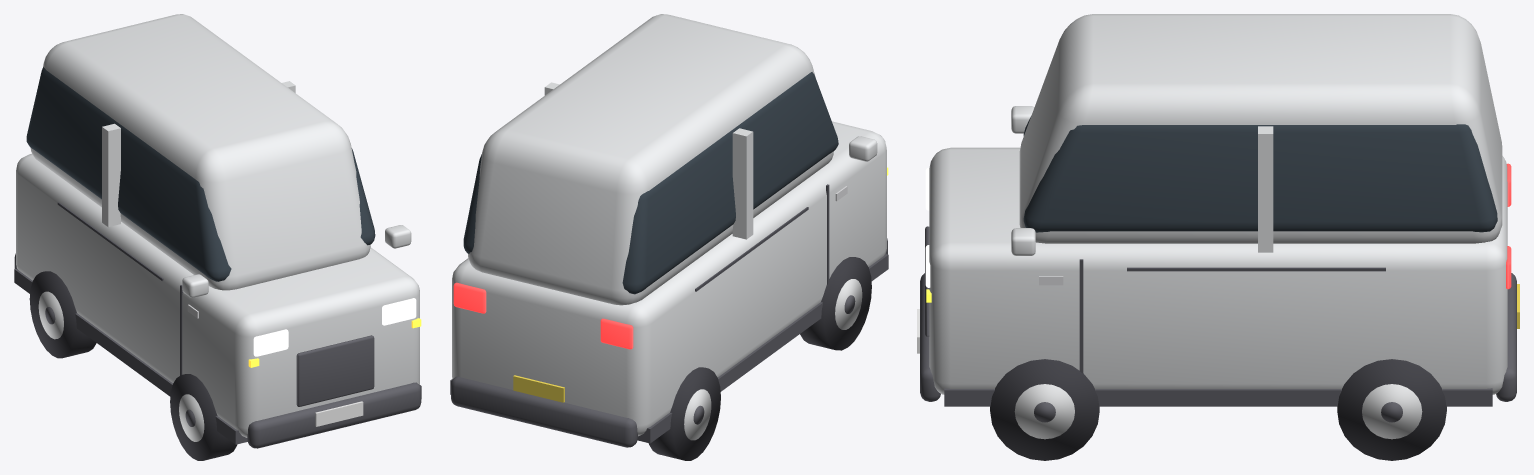
File: van.glb
The picture shows the model from 3 angles, left to right: view 1: azimuth 30°, elevation 25°; view 2: azimuth 150°, elevation 25°; view 3: azimuth 270°, elevation 25°; orthographic projection. The views are drawn at different scales.
Visible parts, largest first — view 1: van; view 2: van; view 3: van.
Boxes of the visible parts, x1,y1,x2,y2 form: van: (14,14,421,460); van: (450,14,888,460); van: (917,14,1519,460).
Bounding box in the file's own units: 1.04 × 1.28 × 1.98.
